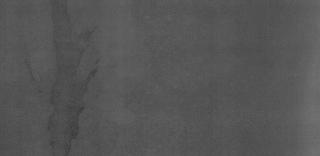water spot: (39, 9, 110, 156)
